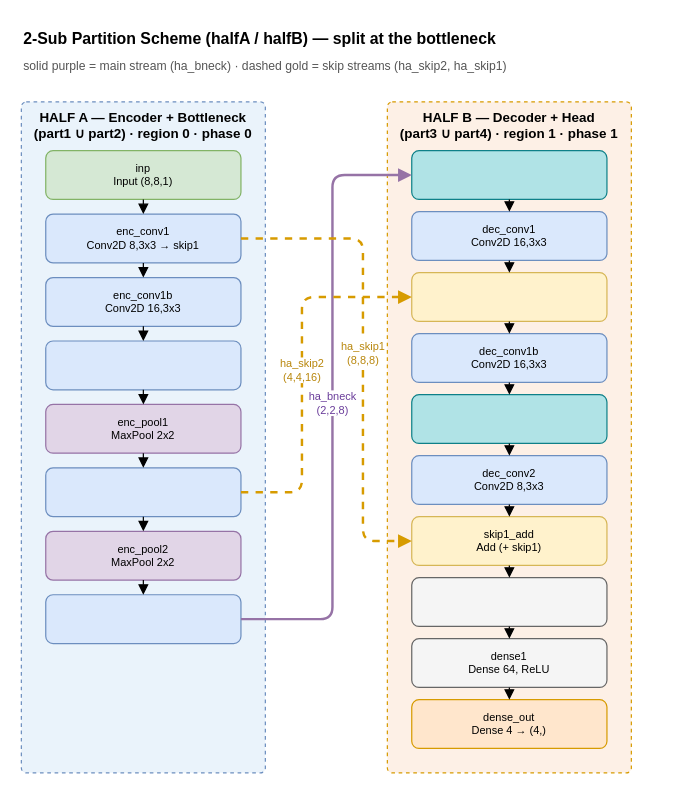
This 677x794 diagram has some shape labels left out. Each missing label, with the centre of its shape:
bottleneck Conv2D 8,3x3 → (2,2,8): pixel 143 619
dec_up1 UpSampling 2x2: pixel 509 174
dec_up2 UpSampling 2x2: pixel 509 418
enc_conv2 Conv2D 16,3x3: pixel 143 365
enc_conv3 Conv2D 16,3x3 → skip2: pixel 143 492
gap GlobalAvgPool2D: pixel 509 601
skip2_add Add (+ skip2): pixel 509 296
